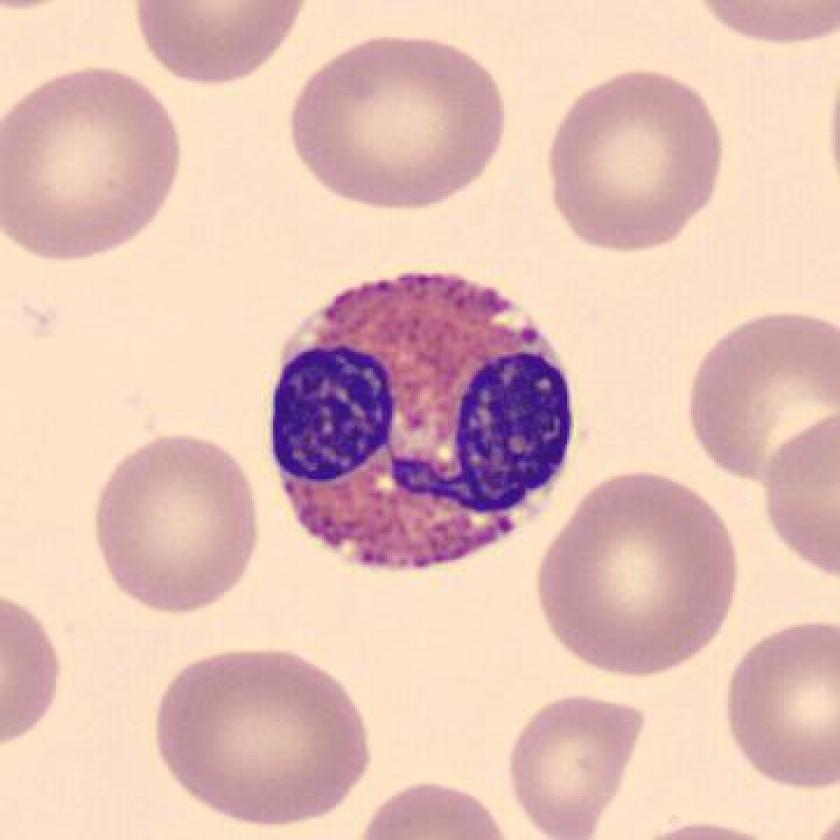eosinophil: (260, 260, 589, 587)
